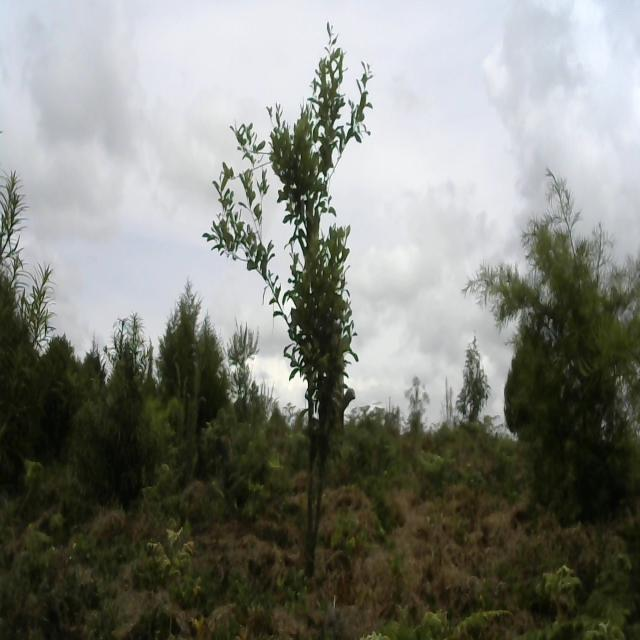Podocarpus falcatus: (465, 159, 640, 494), (0, 168, 54, 470), (104, 302, 151, 428)
cedrus: (158, 272, 225, 422)
other: (202, 14, 378, 564)
